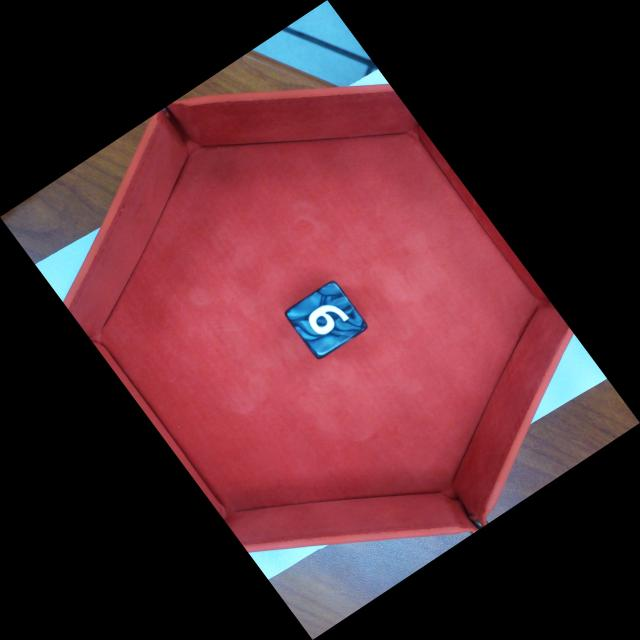dice: (281, 277, 371, 363)
